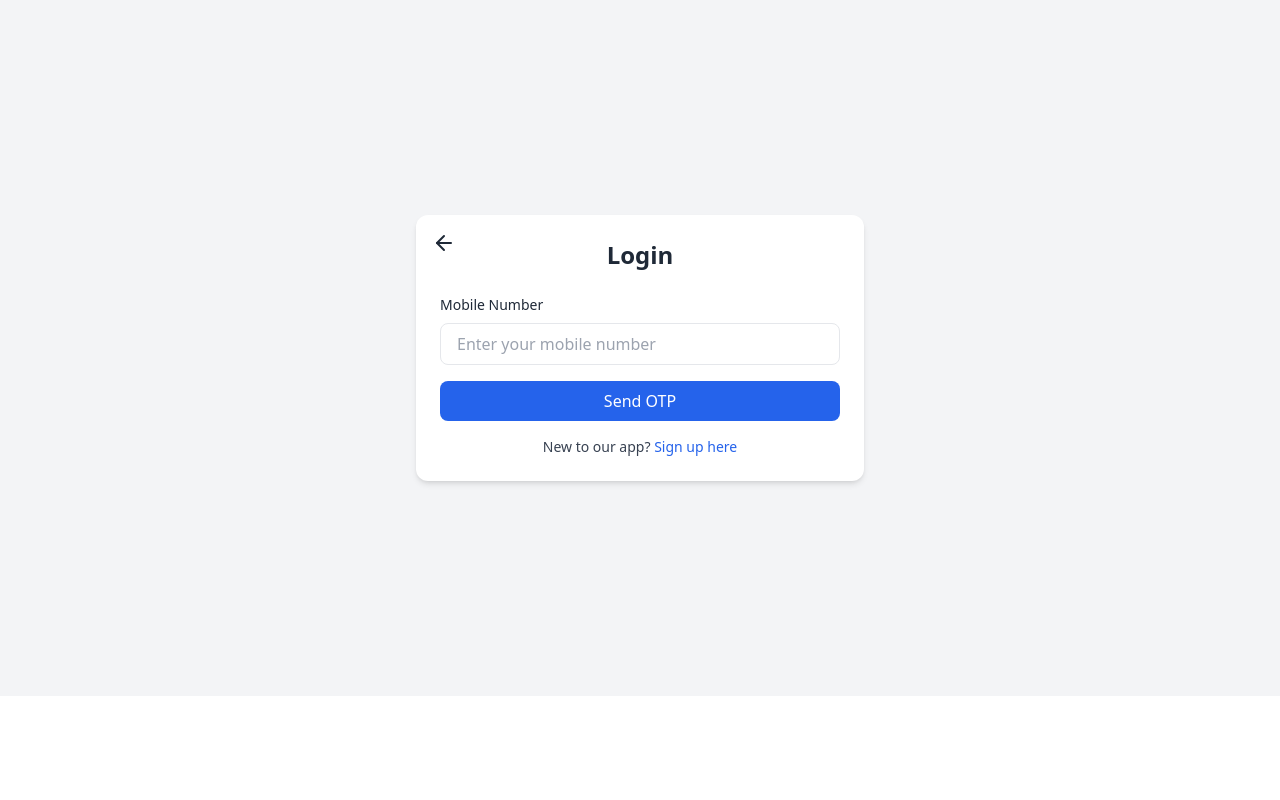
Login Page › sends OTP successfully and switches to OTP screen
In the field with placeholder "Enter your mobile number": x=640, y=344 [440,323,840,365], type "9876543210"
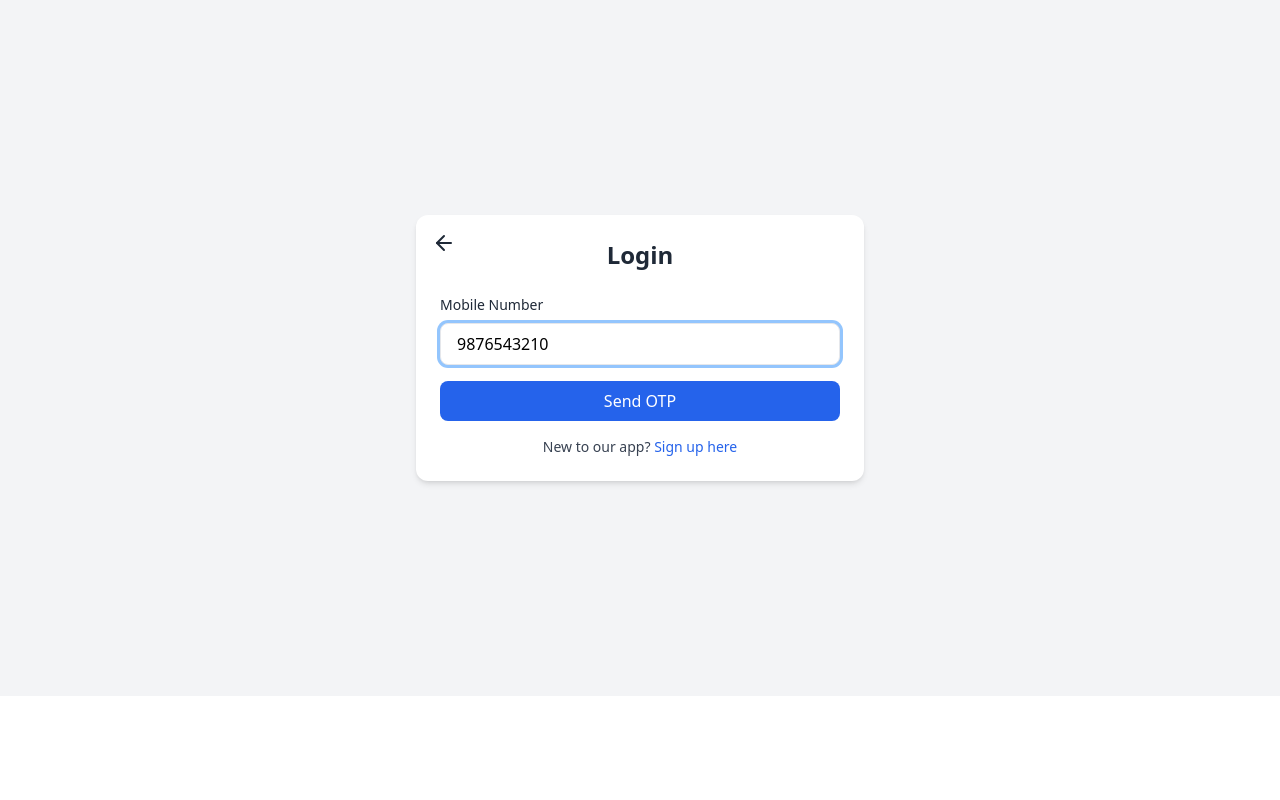
Click the button "Send OTP": x=640, y=401 [440,381,840,421]
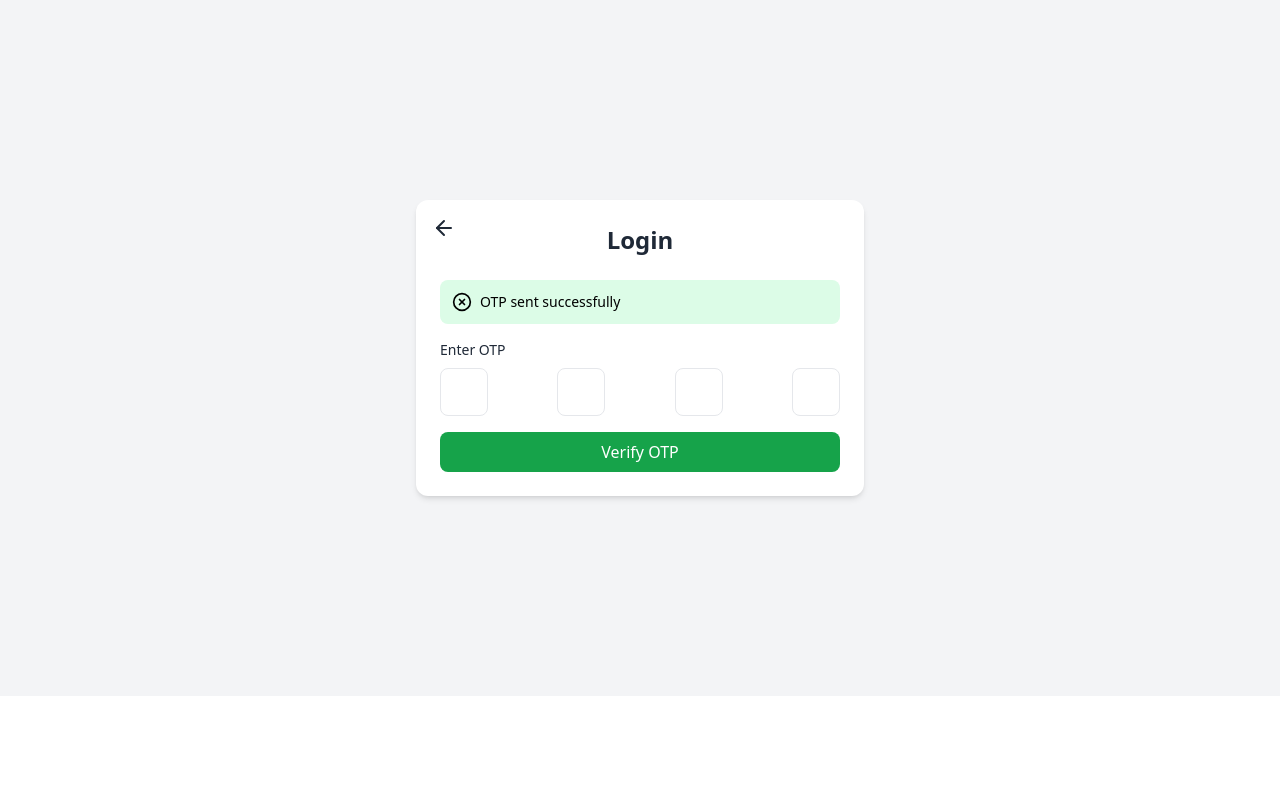
Expected: the text "OTP sent successfully" is shown, [480,292,620,312]
Expected: the text "Enter OTP" is shown, [440,340,506,359]
